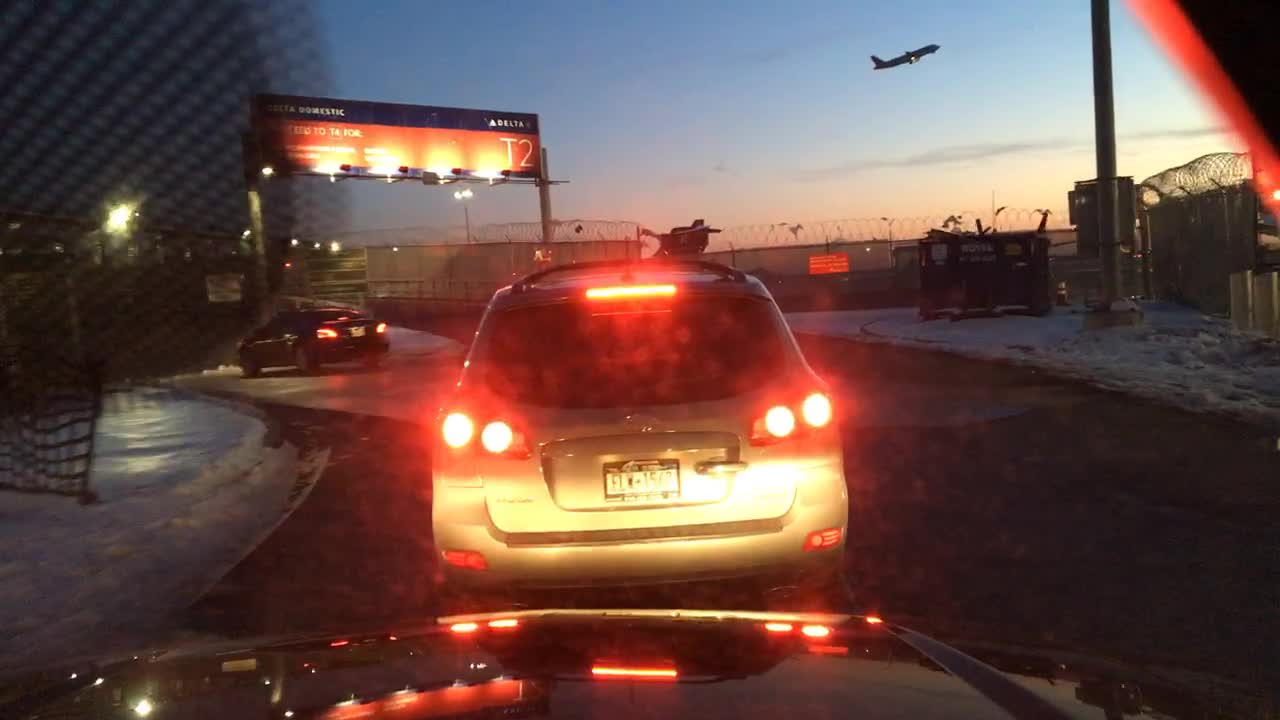car: (429, 250, 848, 617), (238, 304, 387, 380)
traffic sign: (198, 278, 244, 303), (805, 250, 850, 275), (296, 269, 364, 280), (307, 247, 364, 257), (310, 290, 366, 299)
